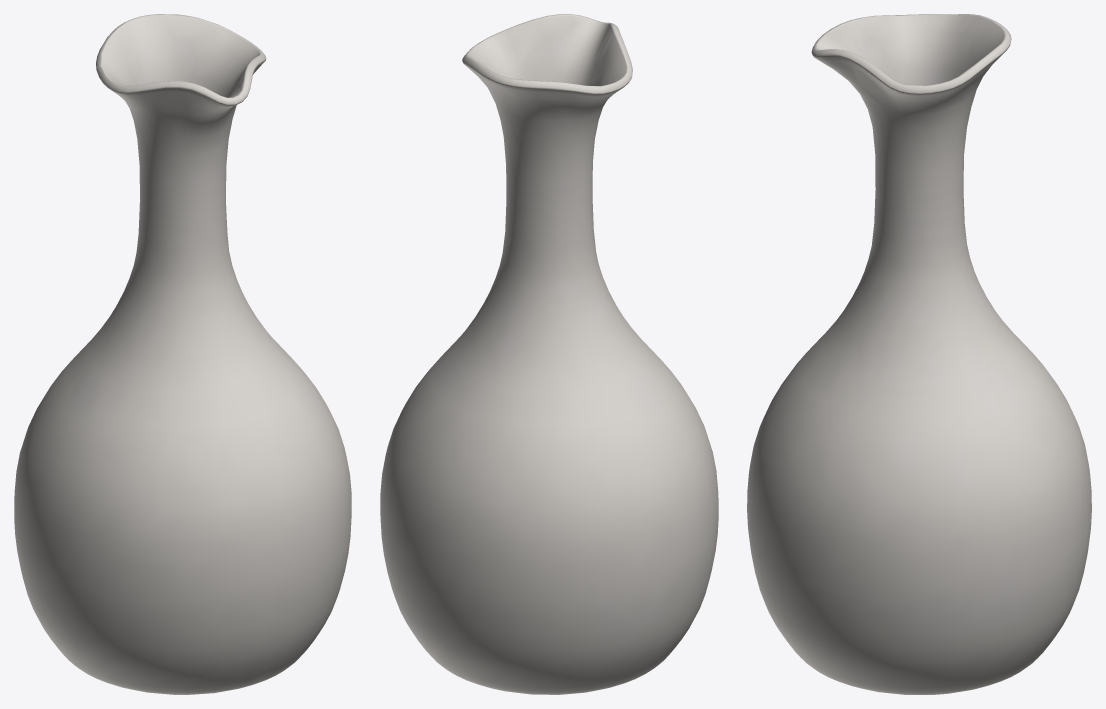
The model's file is ceramic_vase_01.b121face.glb.
3 views of the same model, side by side, from view 1: azimuth 30°, elevation 25°; view 2: azimuth 150°, elevation 25°; view 3: azimuth 270°, elevation 25° (orthographic). The views are drawn at different scales.
Parts seen in each view (by area): view 1: ceramic_vase_01; view 2: ceramic_vase_01; view 3: ceramic_vase_01.
Boxes of the visible parts, box(x1,y1,x2,y2) form: ceramic_vase_01: box(14, 14, 351, 694); ceramic_vase_01: box(380, 14, 718, 694); ceramic_vase_01: box(747, 14, 1091, 694).
Size of the model in its own units: 0.5087 by 1 by 0.5087.
Materials: 1 (1 with a texture image).
